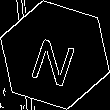N_N: (27, 25, 83, 85)
